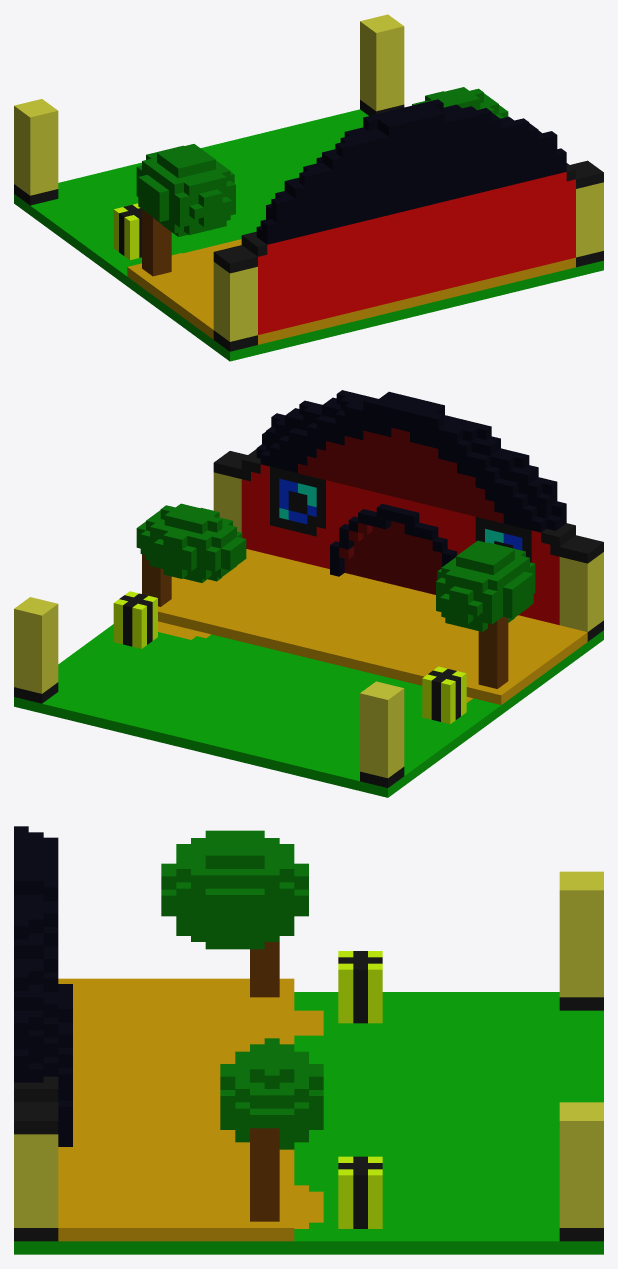
File: granja.glb
3 renders of one model, top to bottom at view 1: azimuth 30°, elevation 25°; view 2: azimuth 150°, elevation 25°; view 3: azimuth 270°, elevation 25°, orthographic. The views are drawn at different scales.
Parts seen in each view (by area): view 1: _0; view 2: _0; view 3: _0.
Boxes of the visible parts, x1=… form: _0: x1=14, y1=14, x2=603, y2=361; _0: x1=14, y1=390, x2=603, y2=797; _0: x1=14, y1=826, x2=603, y2=1254.
Bounding box in the file's own units: 0.06 × 0.03 × 0.06.
